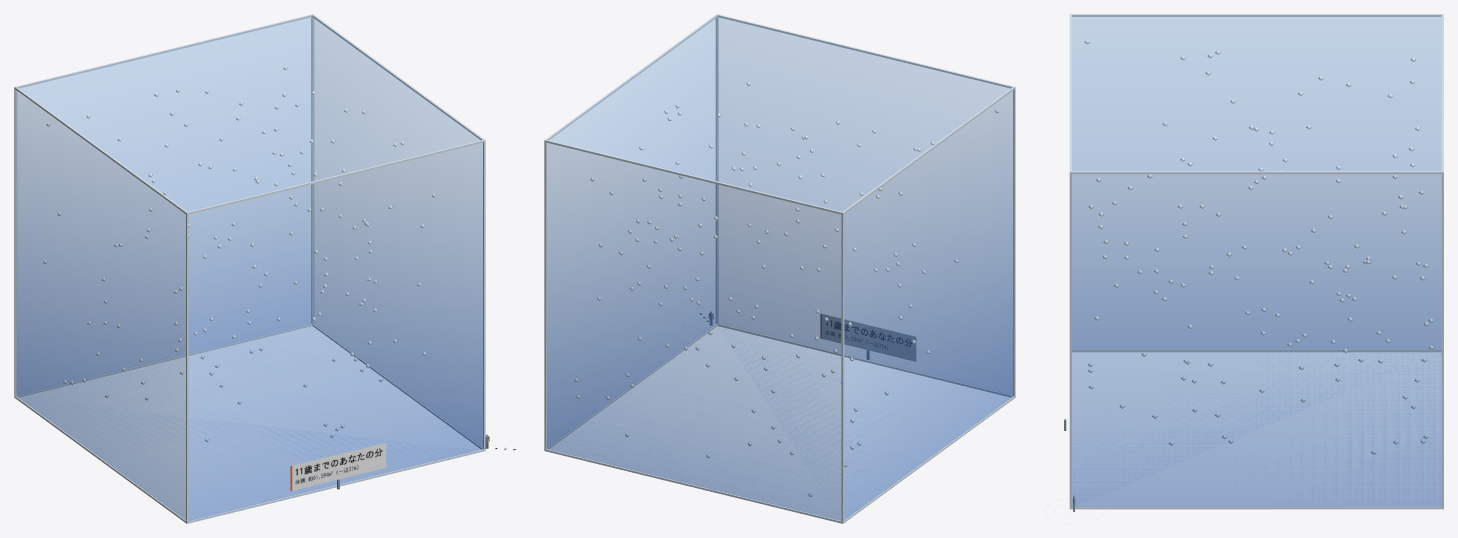
Rendered from cube_life_11.glb.
3 views of the same model, side by side, from view 1: azimuth 30°, elevation 25°; view 2: azimuth 150°, elevation 25°; view 3: azimuth 270°, elevation 25° (orthographic). The views are drawn at different scales.
Visible parts, largest first — view 1: co2, edge, label, dots; view 2: co2, edge, label, dots; view 3: co2, edge, dots.
Boxes of the visible parts, x1,y1,x2,y2 form: co2: (16, 15, 482, 520); edge: (14, 14, 485, 523); label: (290, 443, 386, 490); dots: (43, 66, 435, 442); co2: (547, 15, 1013, 520); edge: (544, 14, 1015, 523); label: (820, 314, 915, 361); dots: (574, 81, 999, 496); co2: (1072, 15, 1441, 506); edge: (1069, 14, 1443, 509); dots: (1084, 40, 1433, 454).
Size of the model in its own units: 40.83 by 37.15 by 39.93.
Materials: 8 (3 with a texture image).
